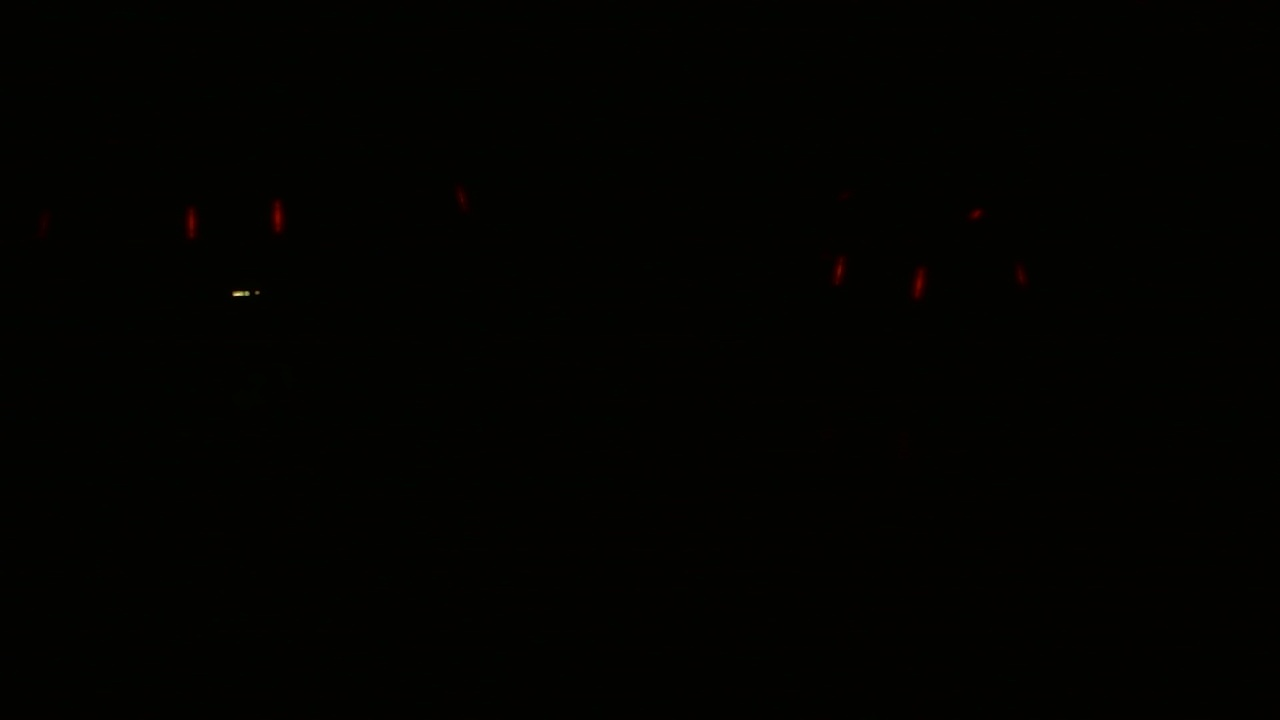pair1: (825, 253, 929, 302), (187, 197, 282, 245)
